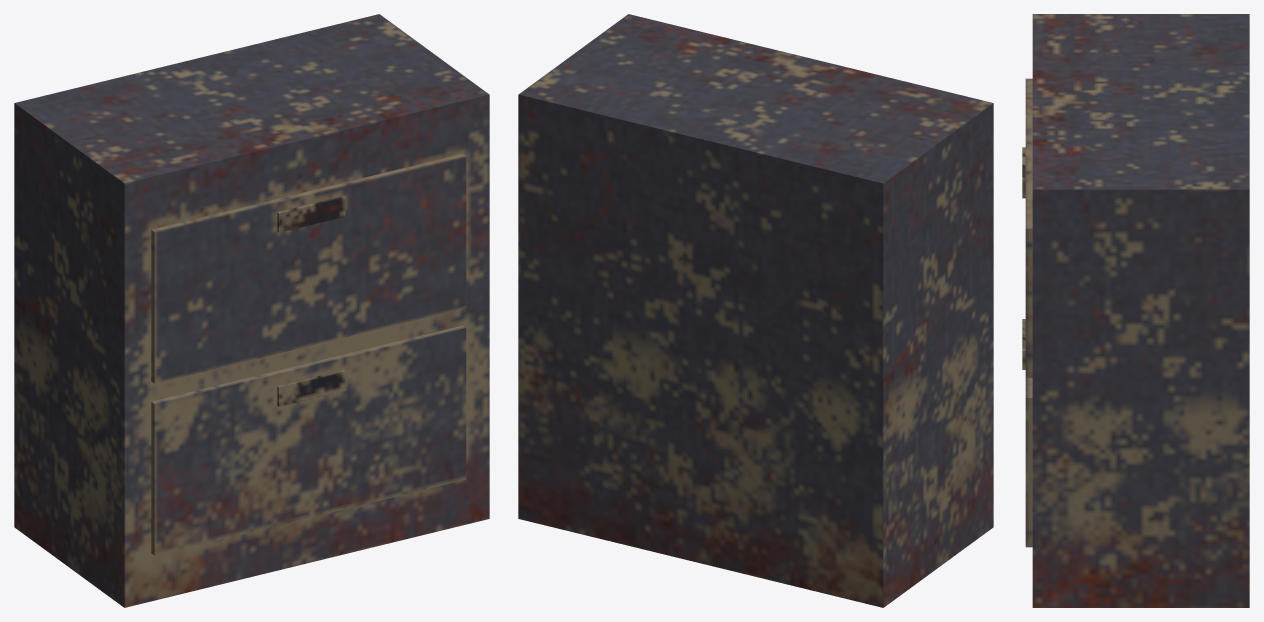
The model's file is filing_cabinet.fbx.
The picture shows the model from 3 angles, left to right: view 1: azimuth 30°, elevation 25°; view 2: azimuth 150°, elevation 25°; view 3: azimuth 270°, elevation 25°; orthographic projection.
Parts seen in each view (by area): view 1: filing_cabinet; view 2: filing_cabinet; view 3: filing_cabinet.
Boxes of the visible parts, <box> form: filing_cabinet: <box>14,14,489,607</box>; filing_cabinet: <box>518,14,993,607</box>; filing_cabinet: <box>1022,14,1249,607</box>.
Bounding box in the file's own units: 90 × 100 × 49.26.
1 material, 1 textured.
